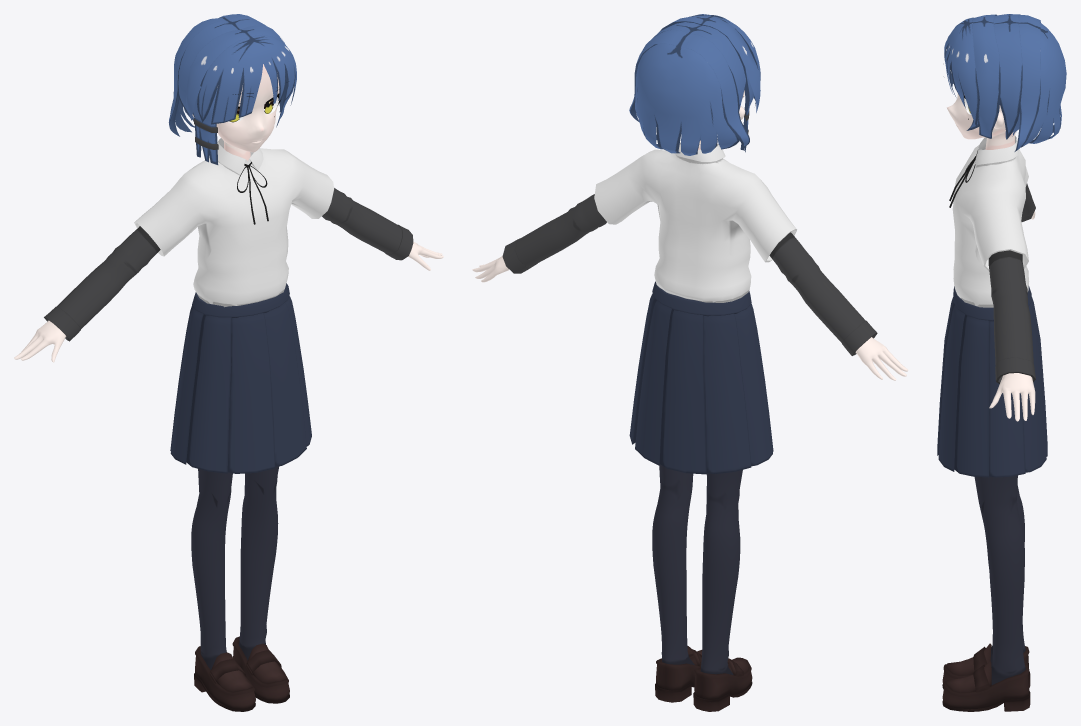
File: ryo.glb
The picture shows the model from 3 angles, left to right: view 1: azimuth 30°, elevation 25°; view 2: azimuth 150°, elevation 25°; view 3: azimuth 270°, elevation 25°; orthographic projection. The views are drawn at different scales.
Bounding box in the file's own units: 1.75 × 2.58 × 0.4484.
Materials: 3 (3 with a texture image).
